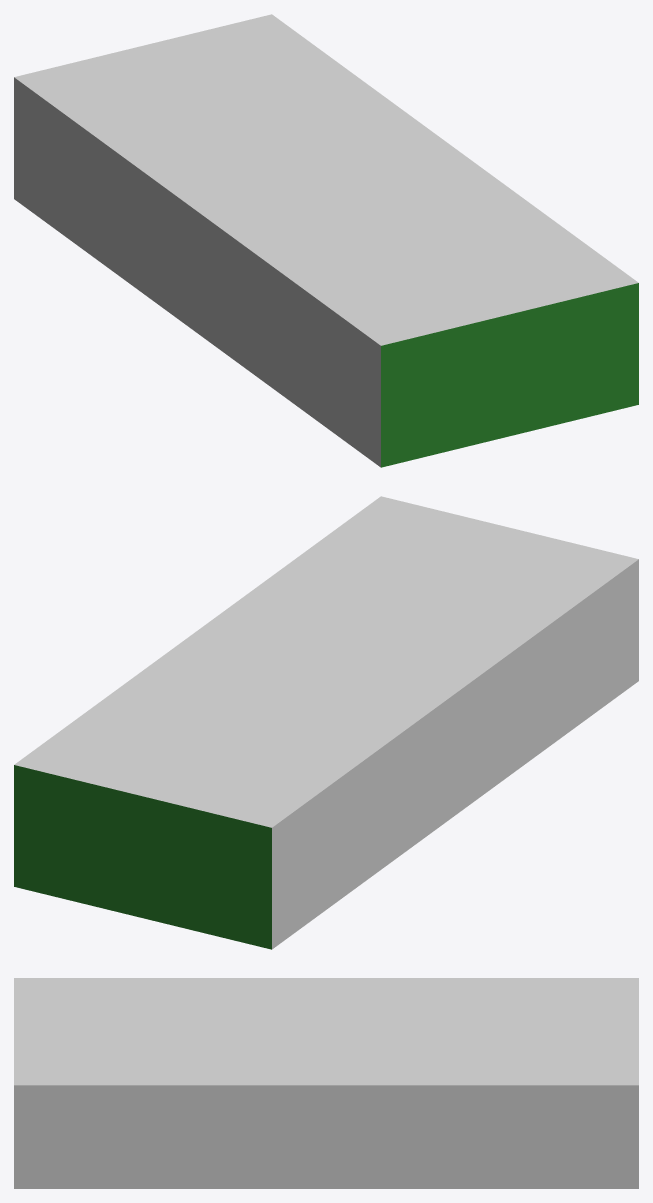
File: i_pills3.glb
3 views of the same model, one above another, from view 1: azimuth 30°, elevation 25°; view 2: azimuth 150°, elevation 25°; view 3: azimuth 270°, elevation 25° (orthographic). The views are drawn at different scales.
Visible parts, largest first — view 1: Cube; view 2: Cube; view 3: Cube.
Boxes of the visible parts, x1,y1,x2,y2 form: Cube: (14, 14, 638, 467); Cube: (14, 496, 638, 949); Cube: (14, 978, 638, 1188).
Bounding box in the file's own units: 0.3664 × 0.1654 × 0.9031.
